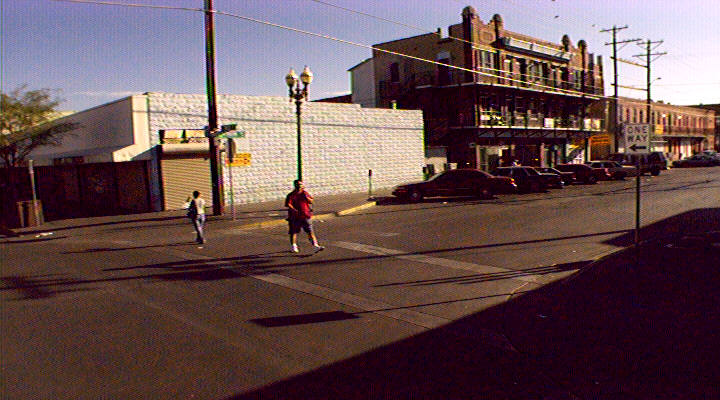Ramp: (67, 212, 248, 247)
